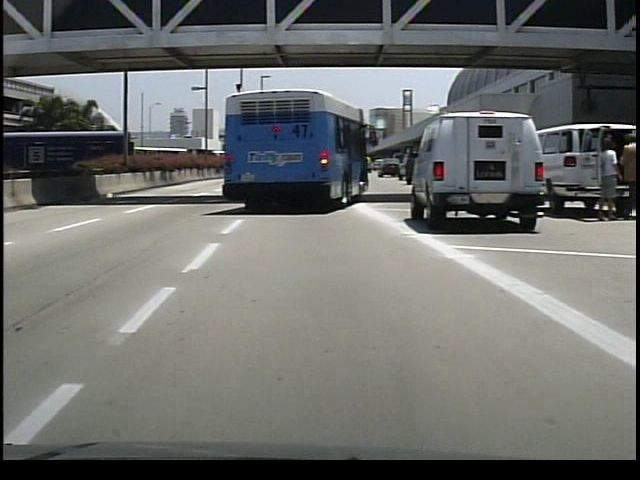person: (610, 130, 640, 220), (591, 134, 615, 221)
